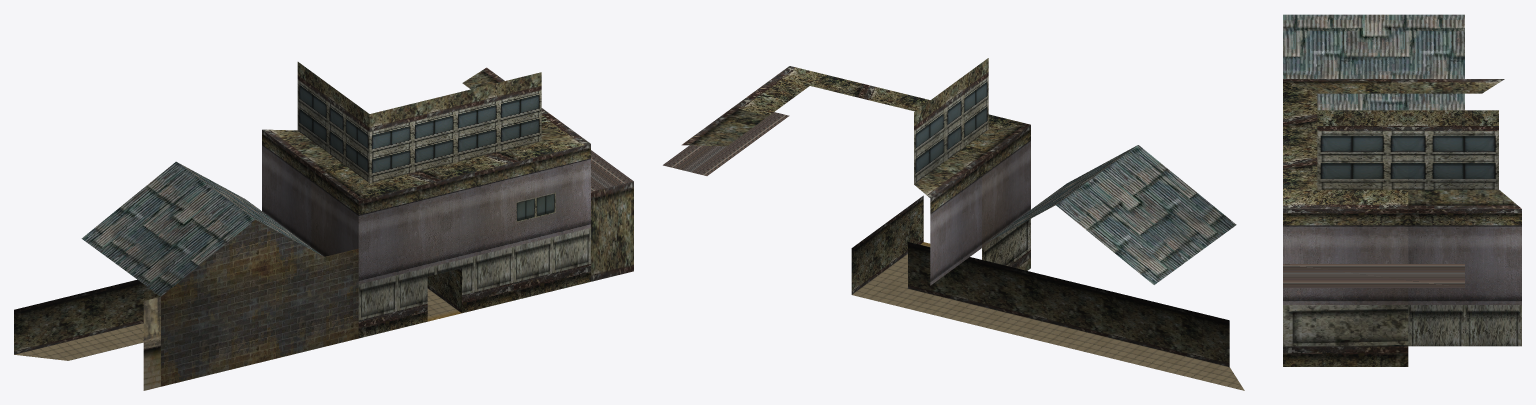
File: M10_Z02_15_WareHouses.glb
3 renders of one model, left to right at view 1: azimuth 30°, elevation 25°; view 2: azimuth 150°, elevation 25°; view 3: azimuth 270°, elevation 25°, orthographic. The views are drawn at different scales.
Parts seen in each view (by area): view 1: M10_Z02_15_WAREHOUSES; view 2: M10_Z02_15_WAREHOUSES; view 3: M10_Z02_15_WAREHOUSES.
Part boxes in pixels (x1,y1,x2,y2): M10_Z02_15_WAREHOUSES: (14,62,633,390); M10_Z02_15_WAREHOUSES: (663,58,1244,390); M10_Z02_15_WAREHOUSES: (1283,14,1521,366).
Size of the model in its own units: 32 by 11.51 by 10.5.
8 materials, 8 textured.
